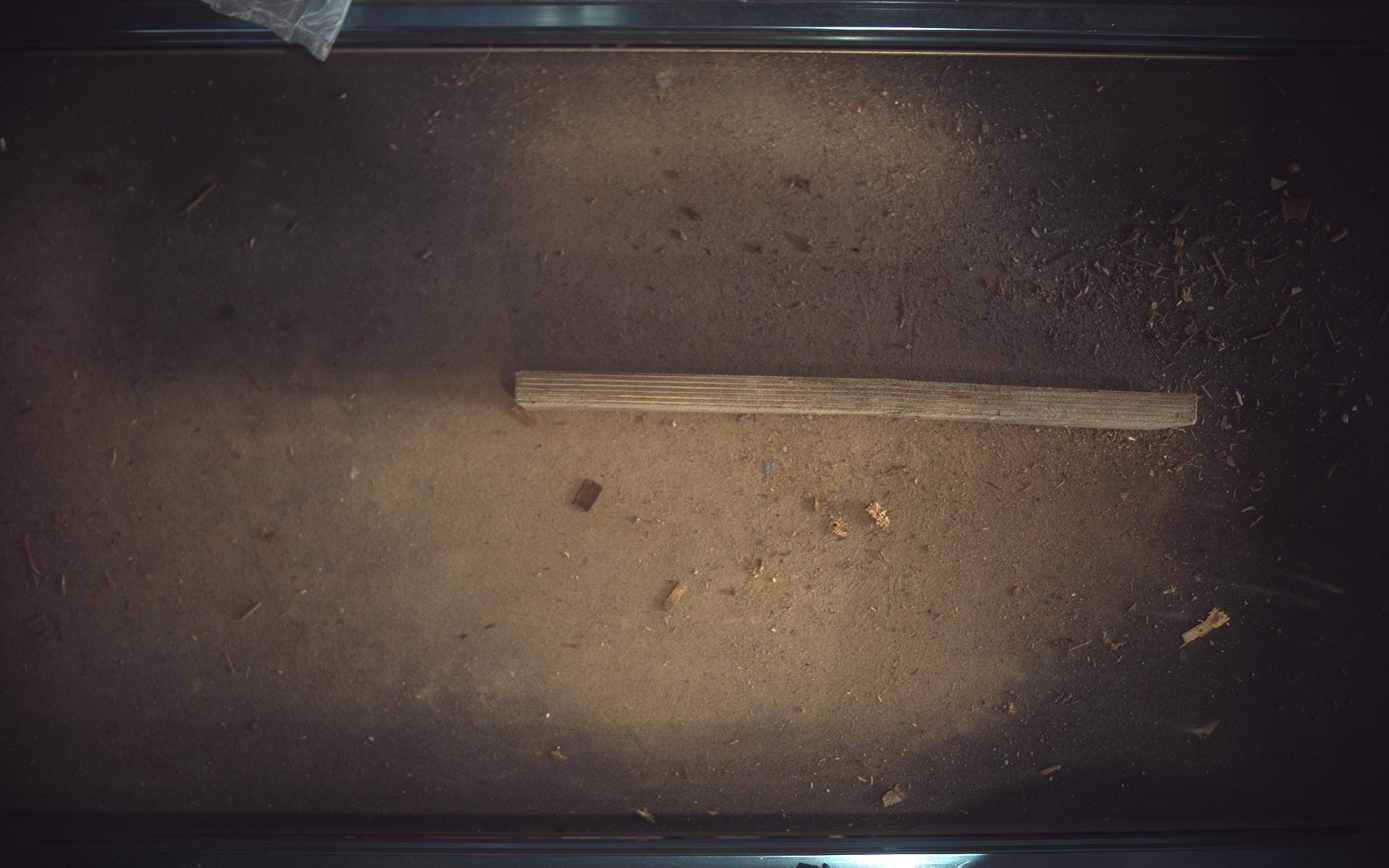wood: (516, 370, 1200, 430)
